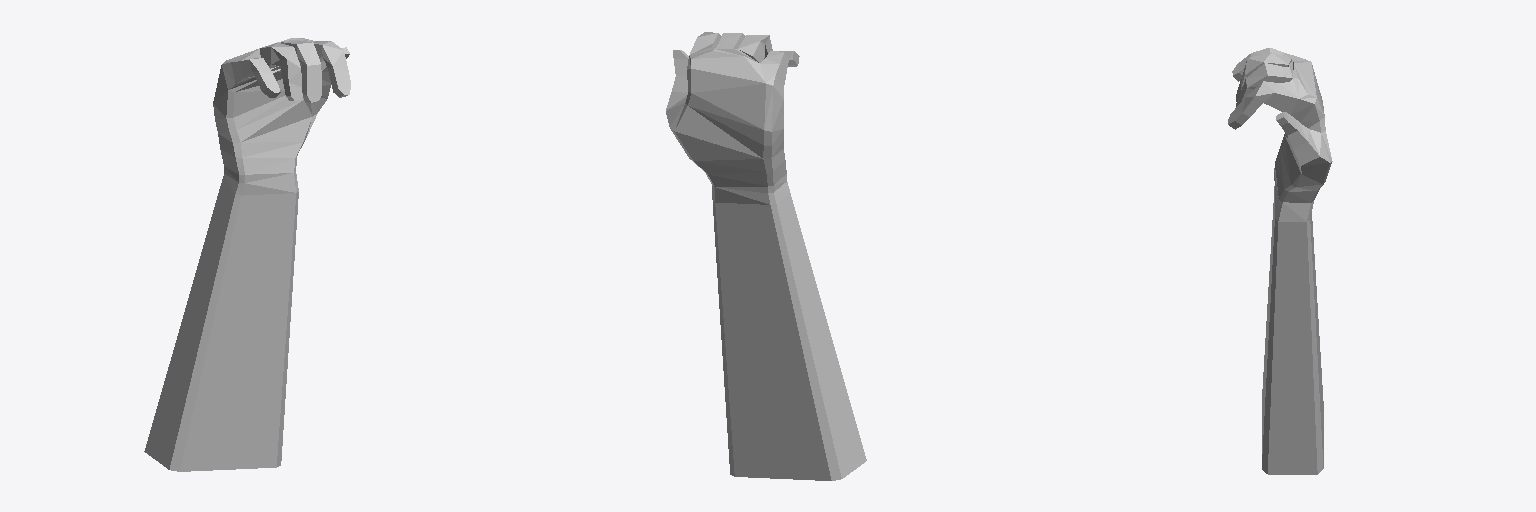
File: hand_anim15.obj
3 renders of one model, left to right at view 1: azimuth 30°, elevation 25°; view 2: azimuth 150°, elevation 25°; view 3: azimuth 270°, elevation 25°, orthographic.
Visible parts, largest first — view 1: Cube.001; view 2: Cube.001; view 3: Cube.001.
Boxes of the visible parts, x1,y1,x2,y2 form: Cube.001: [144, 38, 350, 471]; Cube.001: [666, 32, 866, 480]; Cube.001: [1228, 48, 1332, 474].
Size of the model in its own units: 1.35 by 2.9 by 0.66.